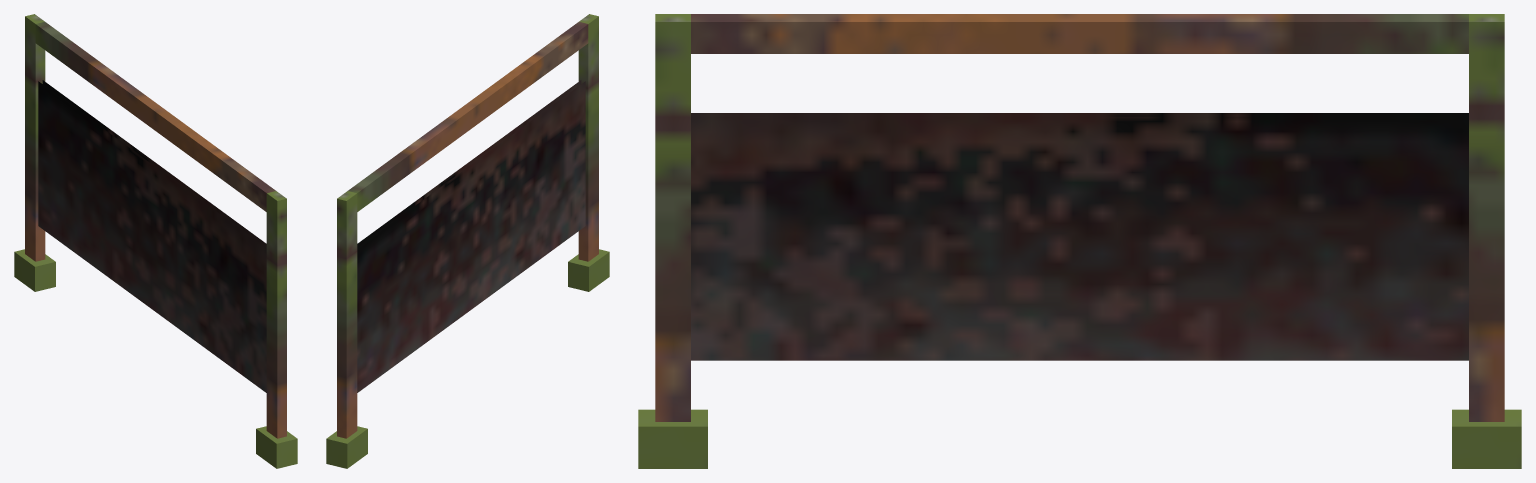
File: MO_METAL_FENCE_01.fbx
The picture shows the model from 3 angles, left to right: view 1: azimuth 30°, elevation 25°; view 2: azimuth 150°, elevation 25°; view 3: azimuth 270°, elevation 25°; orthographic projection. The views are drawn at different scales.
Parts seen in each view (by area): view 1: MO_METAL_FENCE_01; view 2: MO_METAL_FENCE_01; view 3: MO_METAL_FENCE_01.
Boxes of the visible parts, x1=… form: MO_METAL_FENCE_01: x1=14, y1=14, x2=297, y2=468; MO_METAL_FENCE_01: x1=326, y1=14, x2=609, y2=468; MO_METAL_FENCE_01: x1=638, y1=14, x2=1521, y2=468.
Bounding box in the file's own units: 0.0872 × 1.05 × 1.9.
